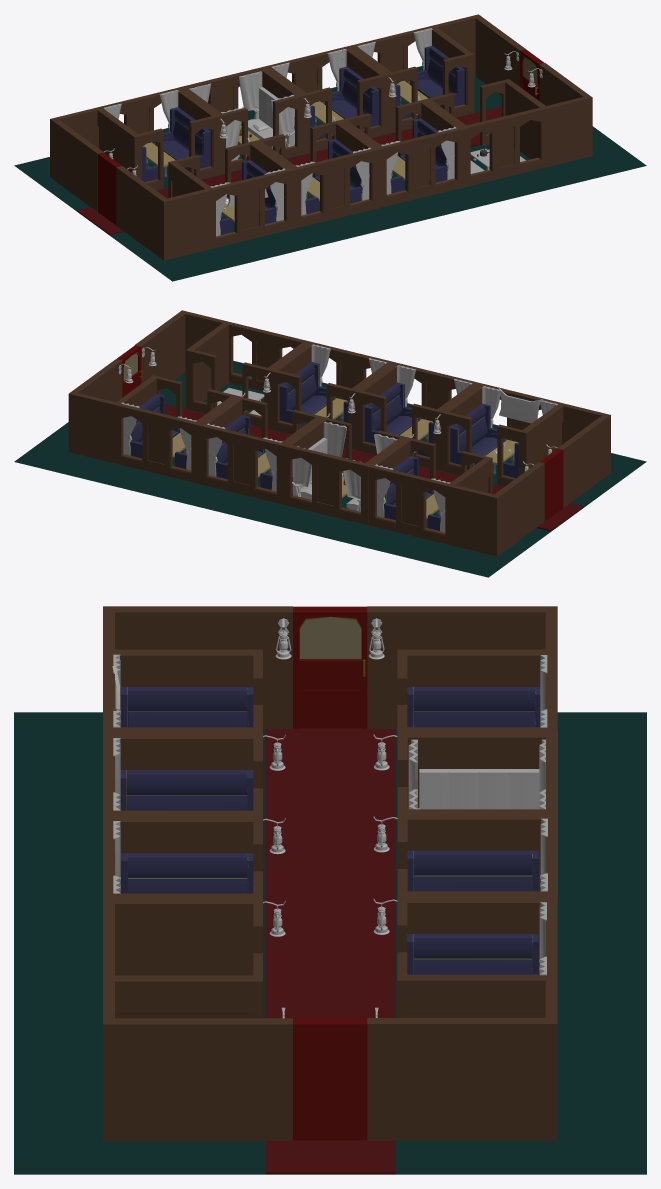
File: TT_carriage.fbx
3 renders of one model, top to bottom at view 1: azimuth 30°, elevation 25°; view 2: azimuth 150°, elevation 25°; view 3: azimuth 270°, elevation 25°, orthographic. The views are drawn at different scales.
Parts seen in each view (by area): view 1: big_Assets1; view 2: big_Assets1; view 3: big_Assets1.
Boxes of the visible parts, bbox=[...] form: big_Assets1: bbox=[14, 14, 646, 281]; big_Assets1: bbox=[14, 310, 646, 577]; big_Assets1: bbox=[14, 606, 646, 1174].
Size of the model in its own units: 1928 by 263 by 1116.
